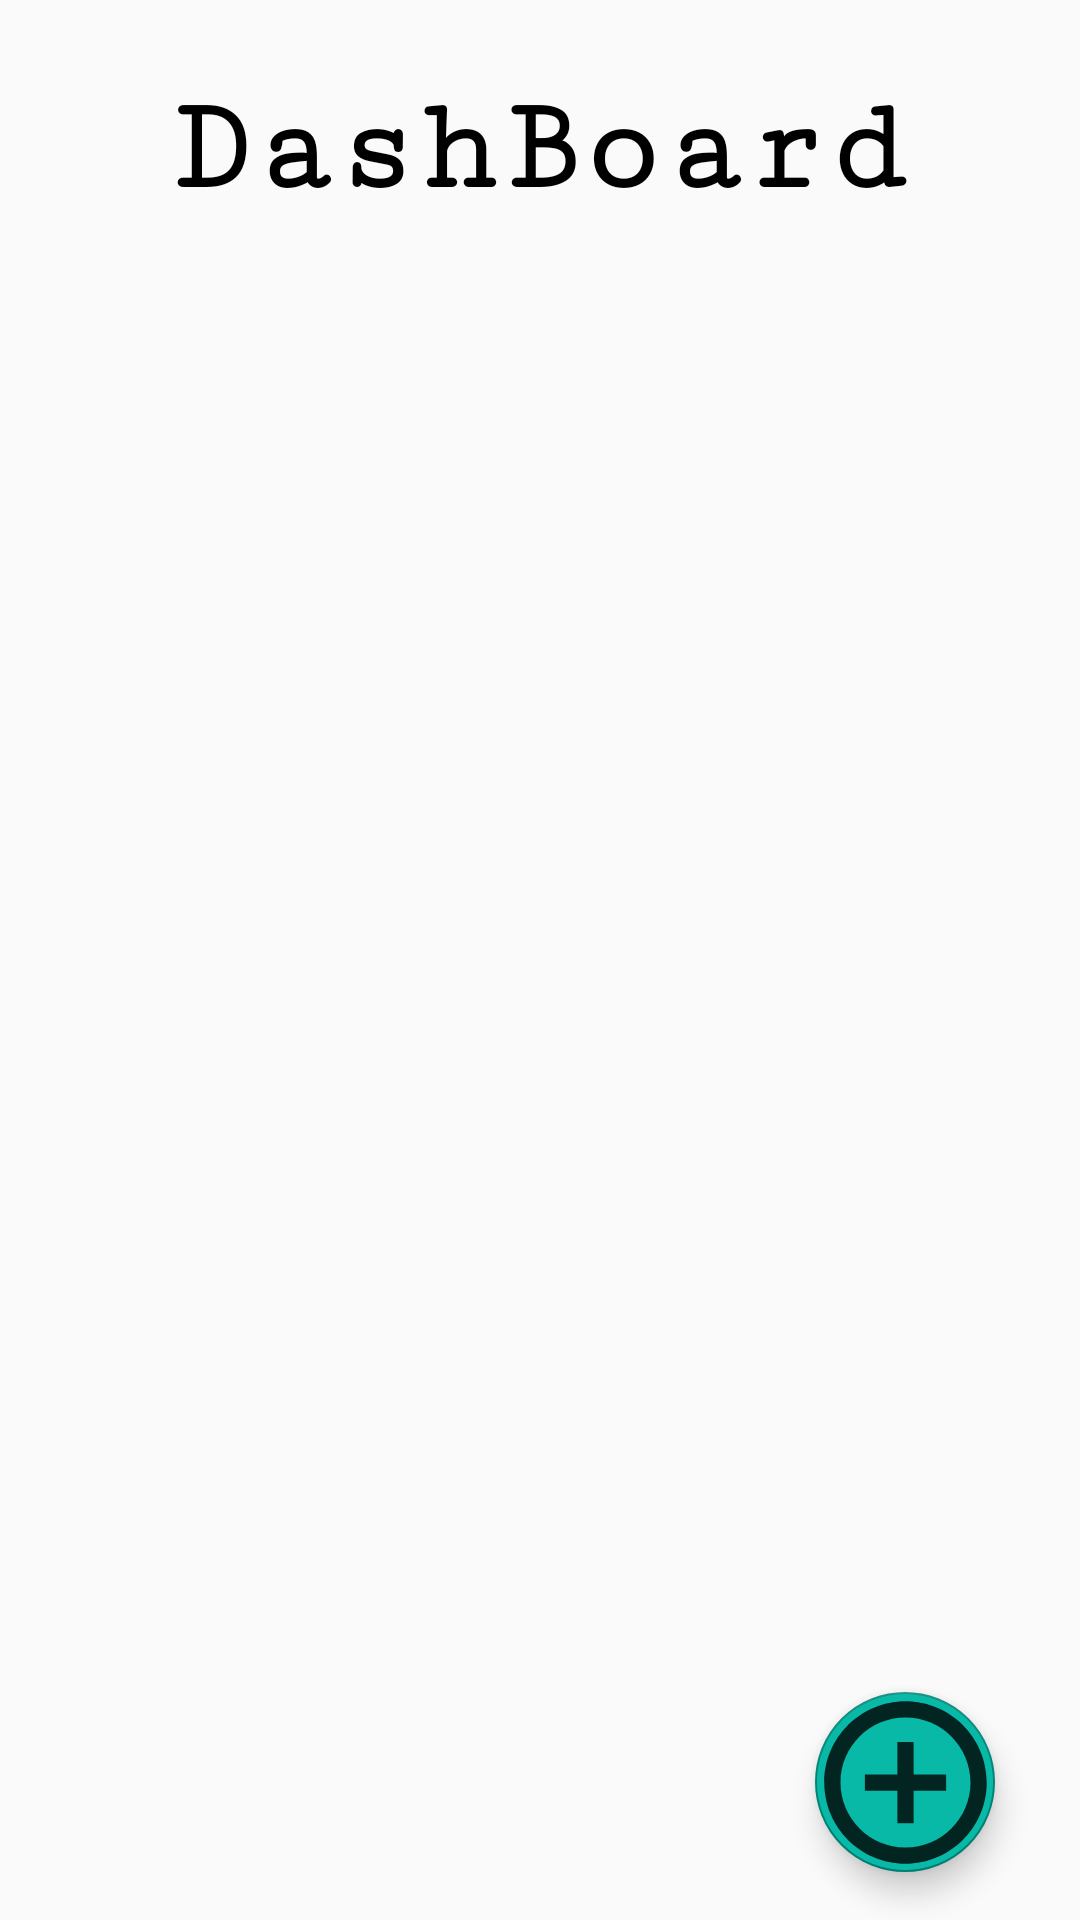

Screen size 1080px×1920px. Icon name, then its box in pixels as box(x1, y1, x2, y2):
add: box(815, 1692, 995, 1872)
